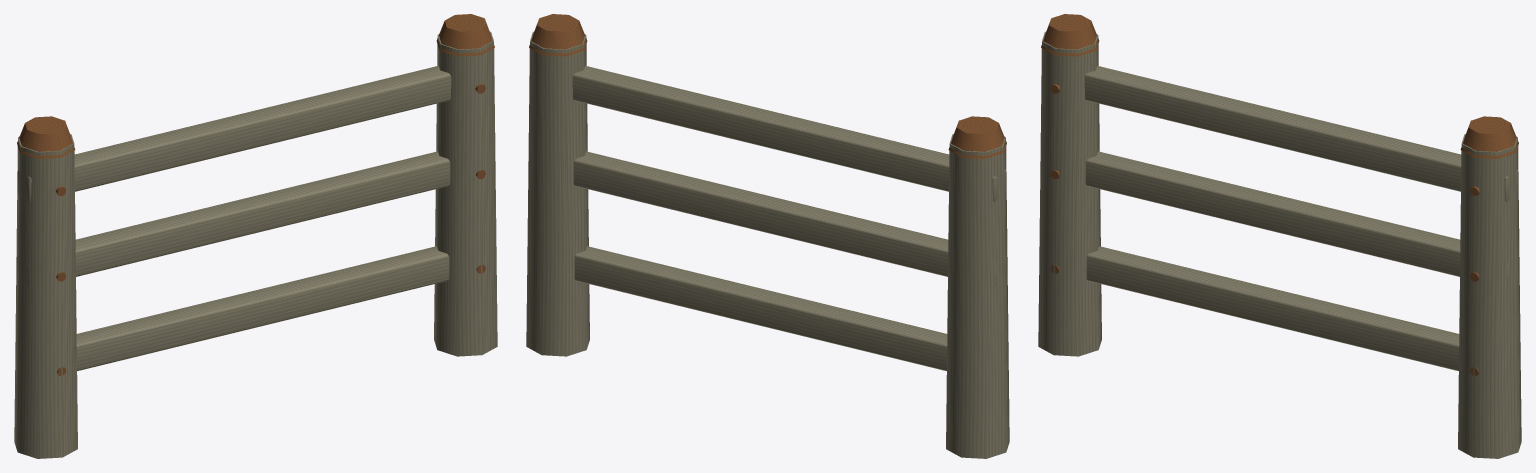
File: fence.glb
3 renders of one model, left to right at view 1: azimuth 30°, elevation 25°; view 2: azimuth 150°, elevation 25°; view 3: azimuth 330°, elevation 25°, orthographic.
Parts seen in each view (by area): view 1: FenceBody; view 2: FenceBody; view 3: FenceBody.
Part boxes in pixels (x1=…): FenceBody: x1=14, y1=14, x2=497, y2=458; FenceBody: x1=526, y1=14, x2=1009, y2=458; FenceBody: x1=1038, y1=14, x2=1521, y2=458.
Bounding box in the file's own units: 1.64 × 1.05 × 0.196.
Materials: 1 (1 with a texture image).
